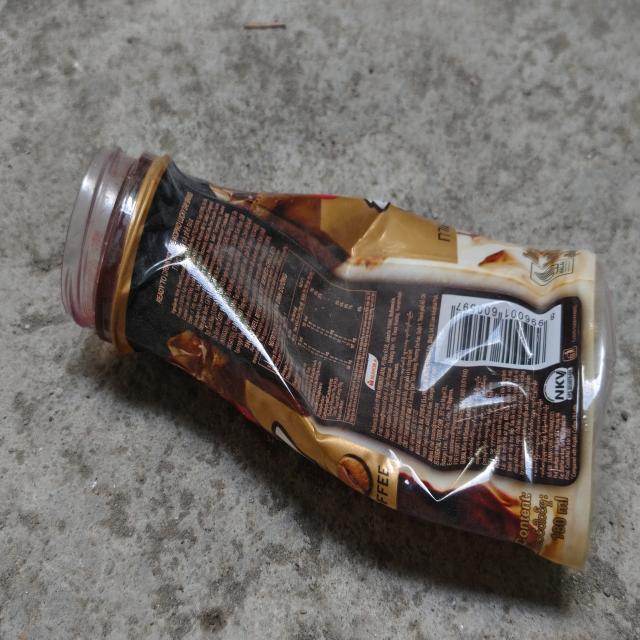Bottle: (62, 148, 615, 569)
